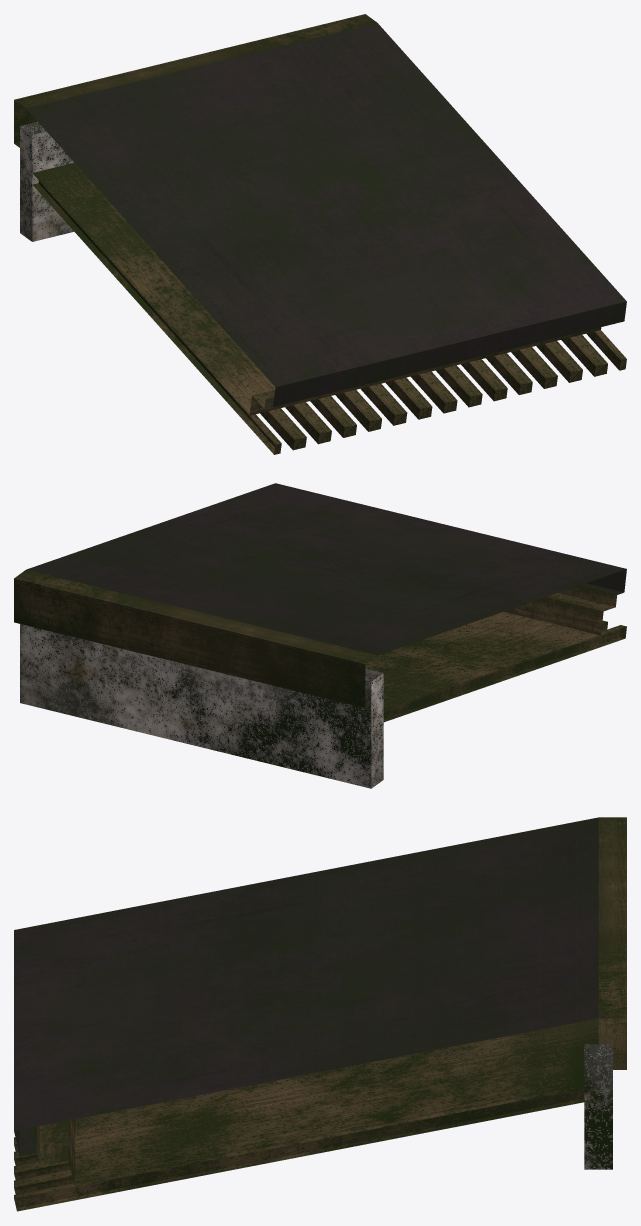
File: shrine_roof_01.fbx
3 renders of one model, top to bottom at view 1: azimuth 30°, elevation 25°; view 2: azimuth 150°, elevation 25°; view 3: azimuth 270°, elevation 25°, orthographic. The views are drawn at different scales.
Parts seen in each view (by area): view 1: shrine_roof_01; view 2: shrine_roof_01; view 3: shrine_roof_01.
Boxes of the visible parts, x1=… form: shrine_roof_01: x1=14, y1=14, x2=626, y2=454; shrine_roof_01: x1=14, y1=483, x2=626, y2=788; shrine_roof_01: x1=14, y1=817, x2=626, y2=1211.
Size of the model in its own units: 330 by 148 by 425.
Materials: 1 (1 with a texture image).
